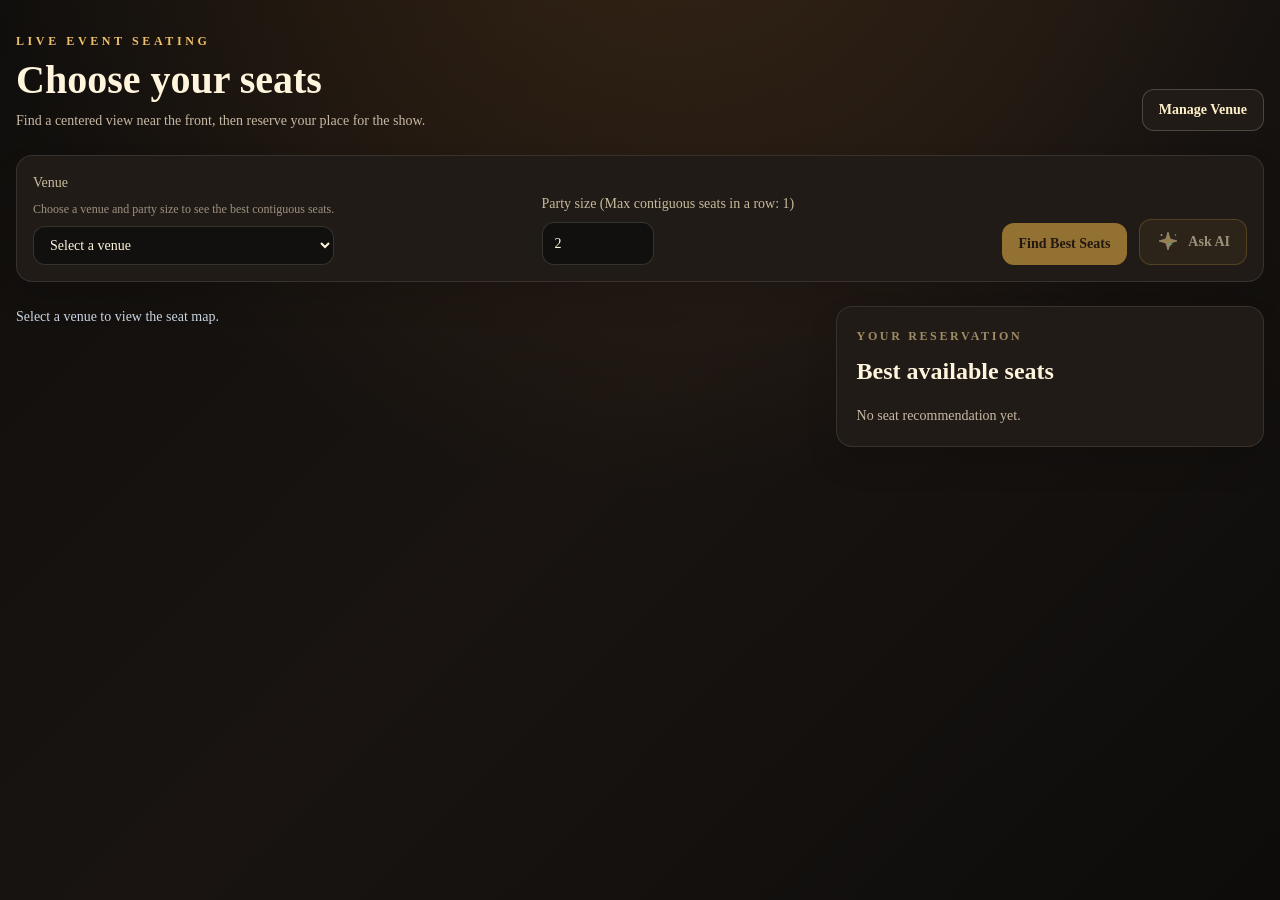
App › adds a venue without asking for an admin token and closes after confirmation
The width and height of the screenshot is (1280, 900).
Select "Main Hall" in the dropdown labelled "Venue" at [184, 245], box left=33, top=226, right=334, bottom=265
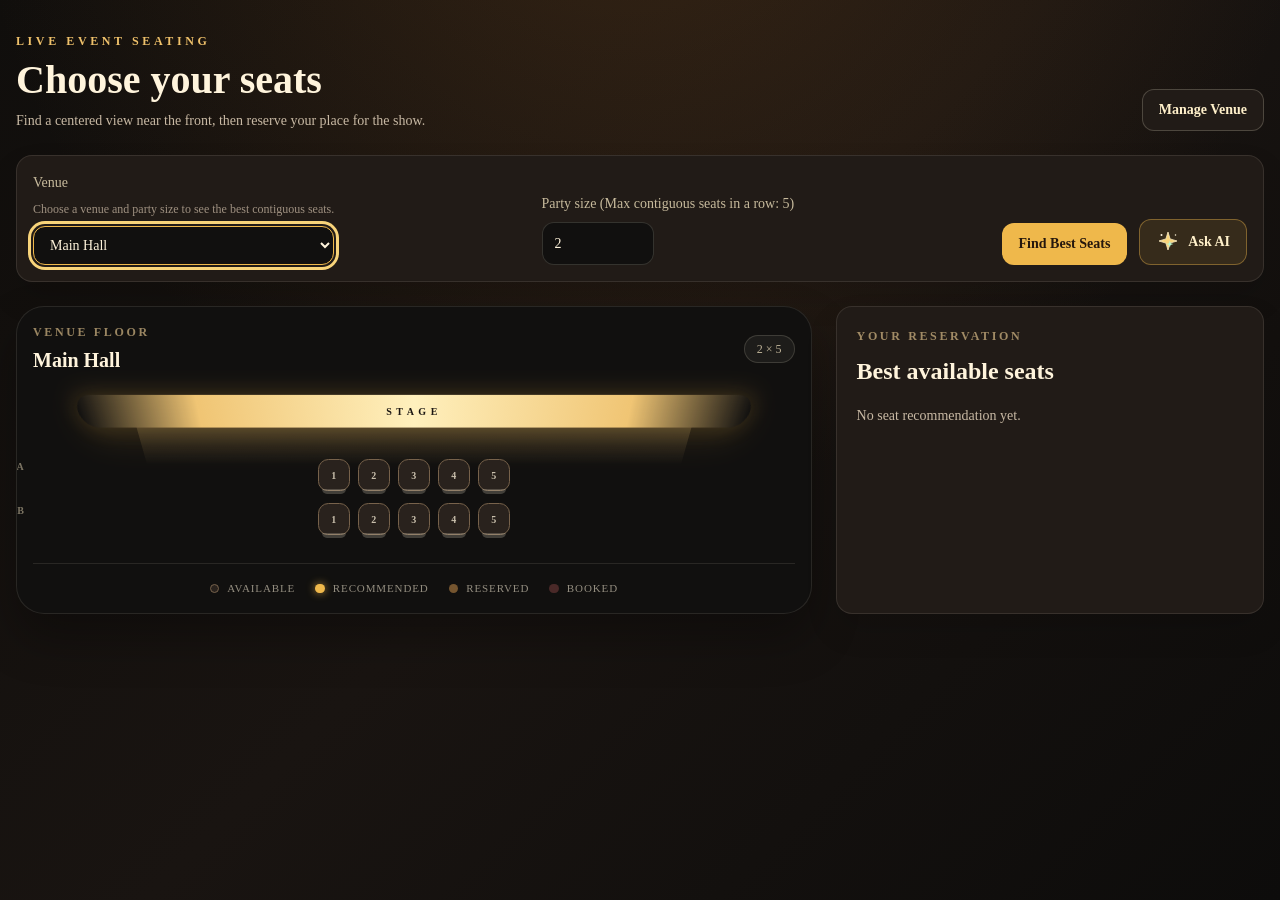
Click the button "Manage Venue".
click(1203, 110)  # box left=1142, top=89, right=1264, bottom=131
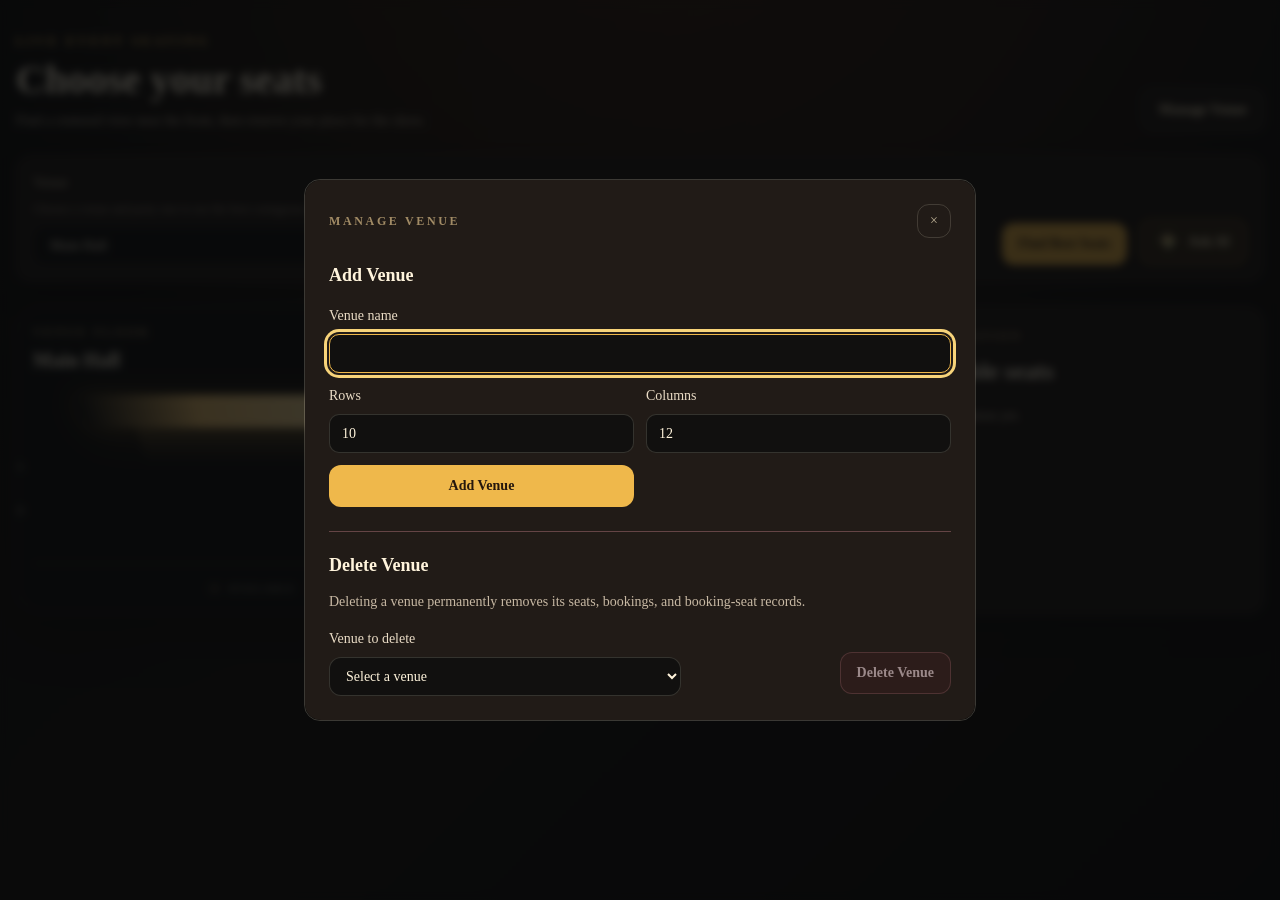
Type "New Venue" into the field labelled "Venue name".
click(640, 354); type("New Venue")  # box left=329, top=334, right=951, bottom=373
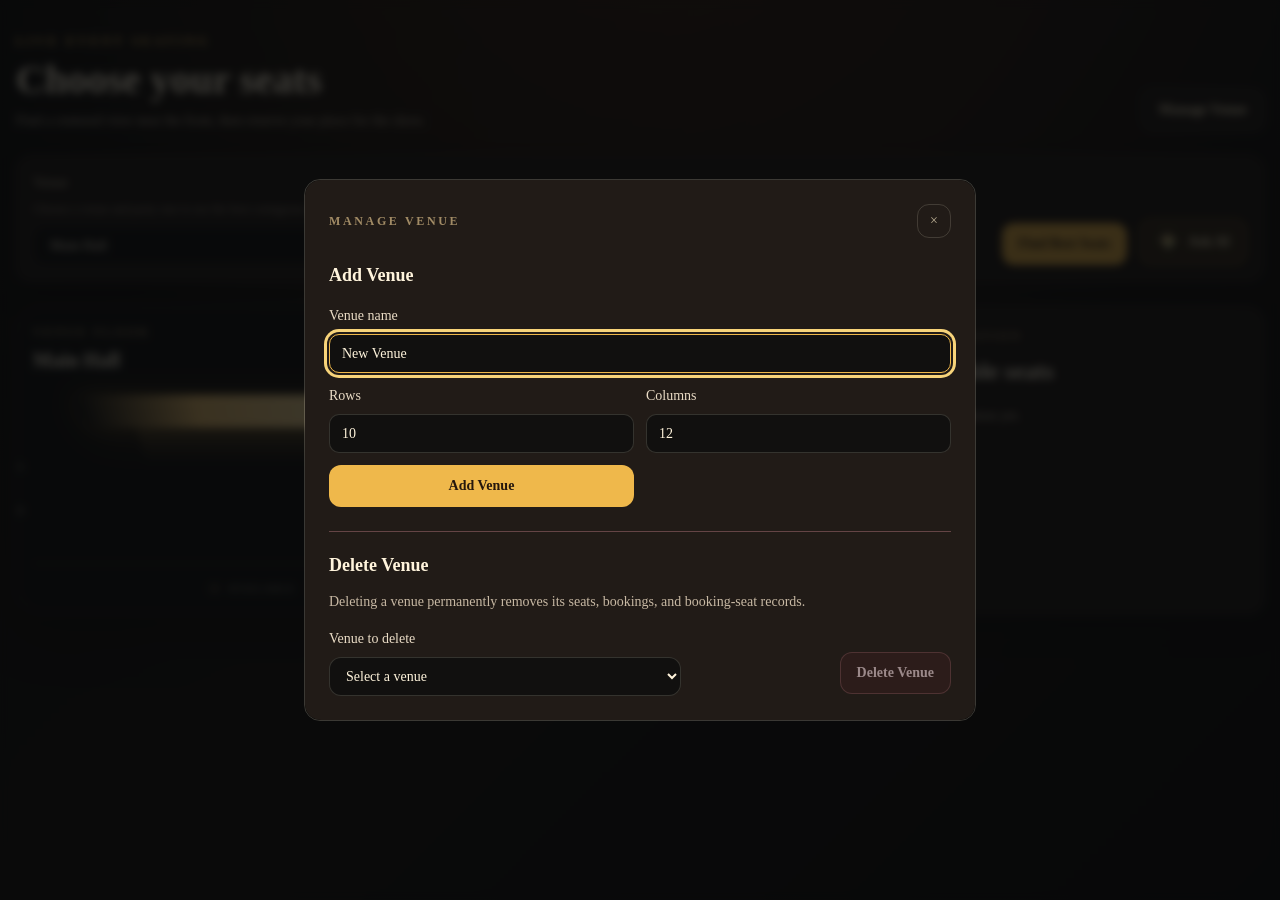
Click the button "Add Venue".
click(482, 486)  # box left=329, top=465, right=634, bottom=507
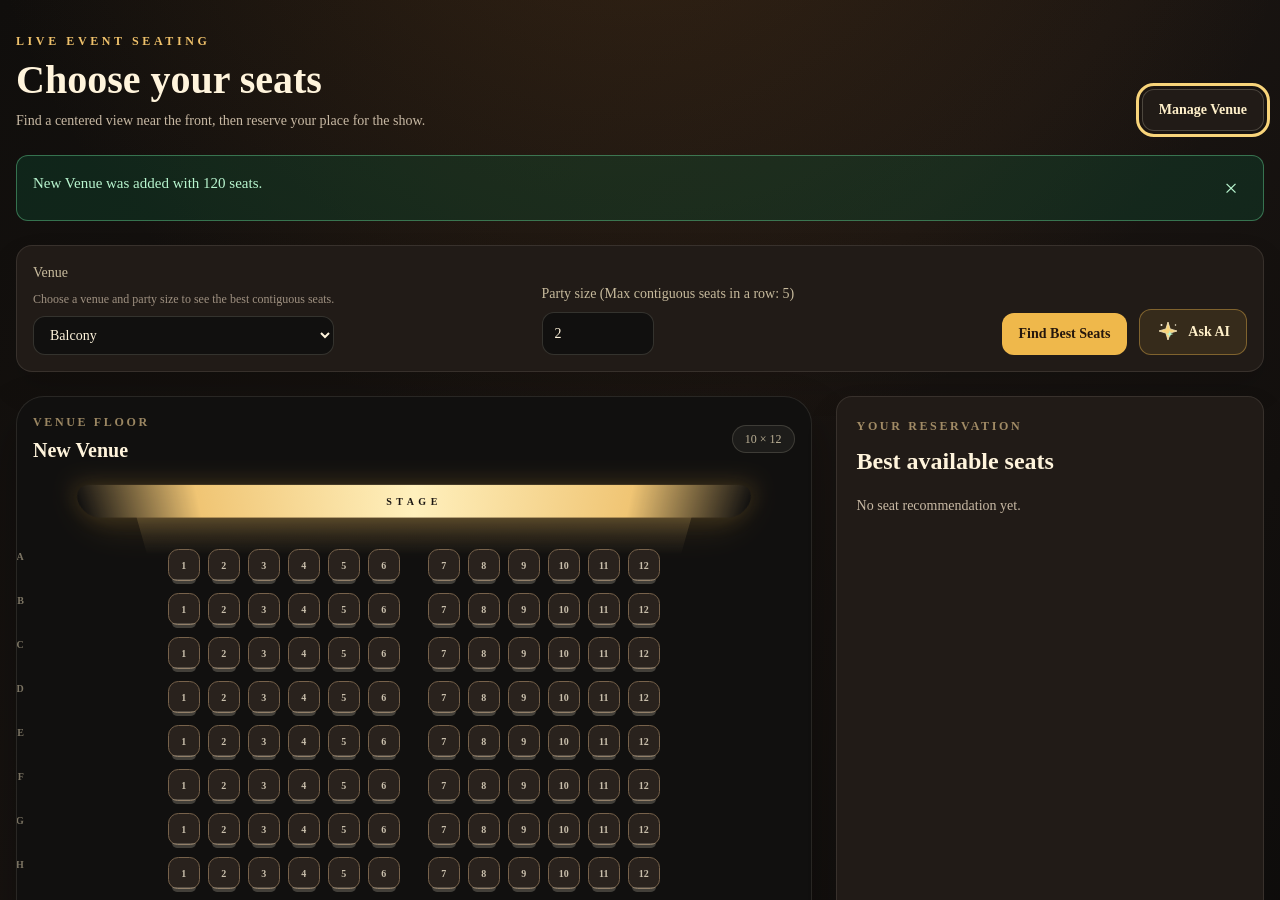
Expected: the message shows "New Venue was added with 120 seats", left=33, top=175, right=262, bottom=191
Click the button named "dismiss venue notification".
click(1231, 188)  # box left=1215, top=172, right=1247, bottom=204
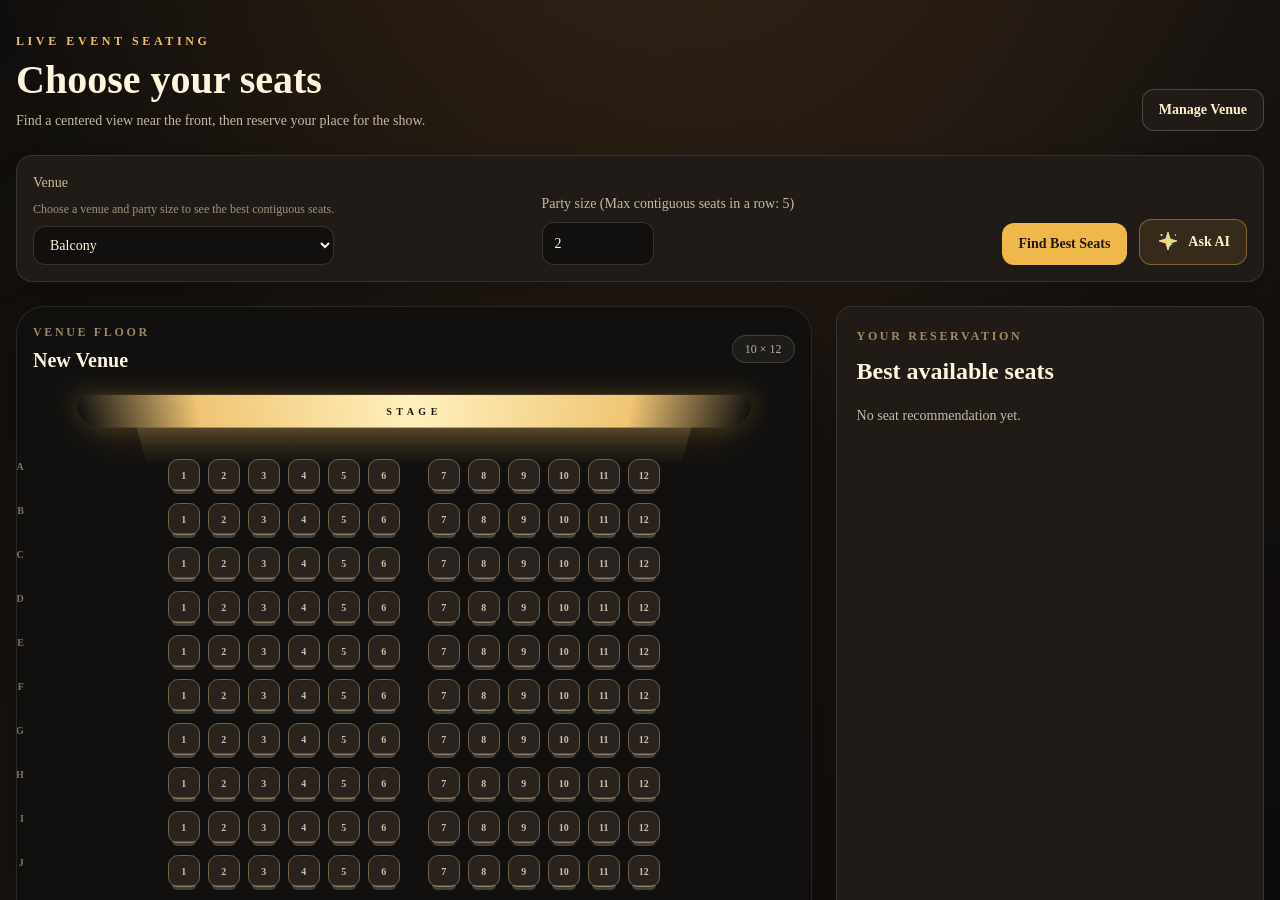
Expected: the message "New Venue was added with 120 seats. ×" is gone
